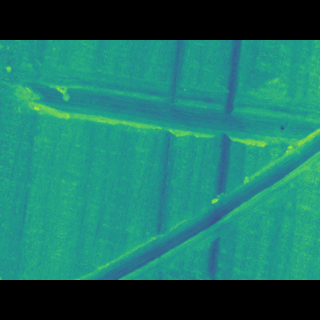Loch: (69, 134, 320, 250), (7, 84, 319, 150)
